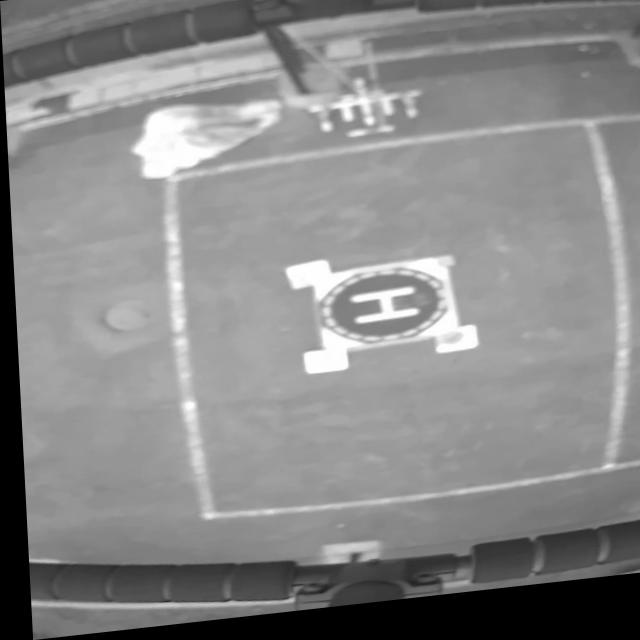Helipad: (343, 293, 419, 332)
